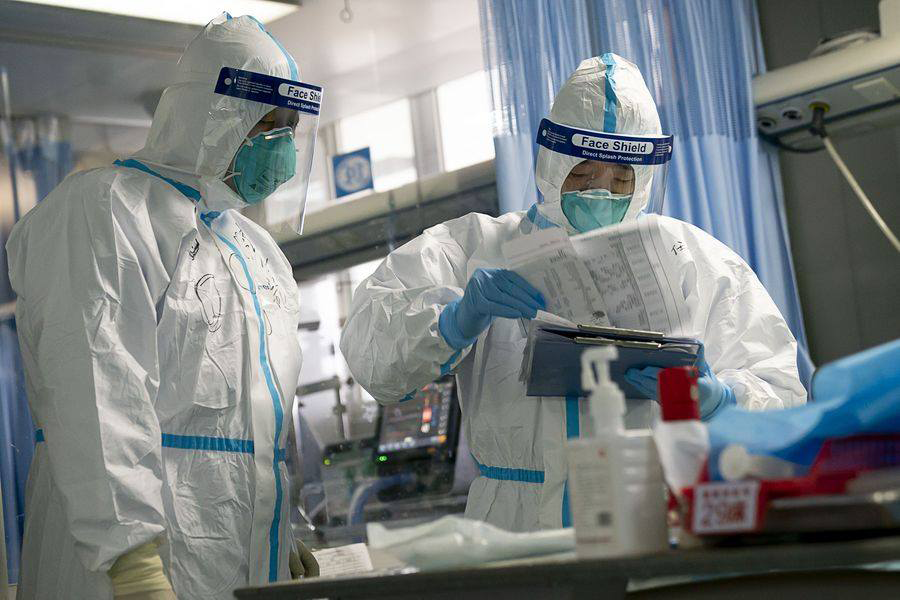Coverall: (337, 53, 807, 521), (8, 18, 308, 592)
Face_Shield: (197, 62, 324, 245), (521, 117, 675, 267)
Gloves: (442, 268, 546, 353), (627, 352, 737, 418), (104, 544, 178, 599), (289, 539, 321, 577)
with_mask: (237, 114, 299, 203), (562, 170, 632, 232)
